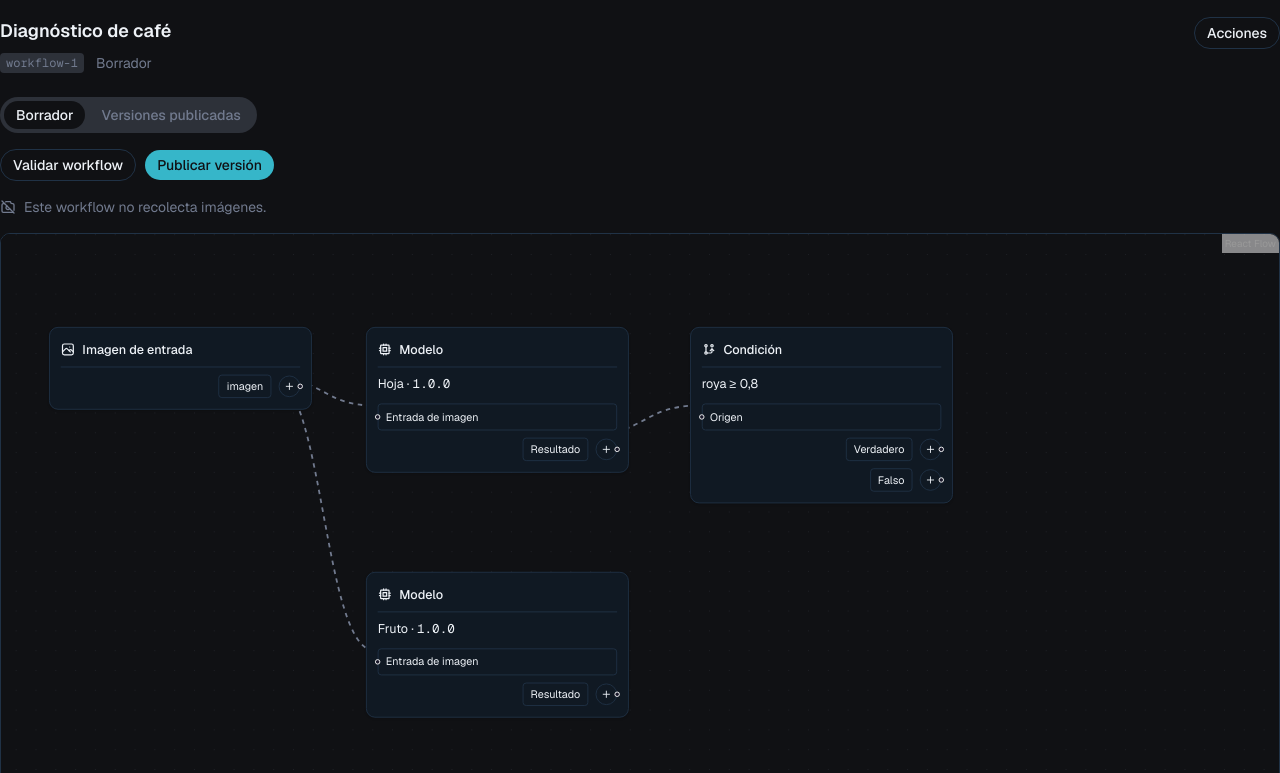
Test: US-132: deleting several nodes at once › opens the same dialog with Supr and closes it with Cancelar
Expected: the element with test id "workflow-node-model-b" is shown, [366,572,629,718]
Click the 1st button "Modelo" at (497, 349), box [378,340,617,358]
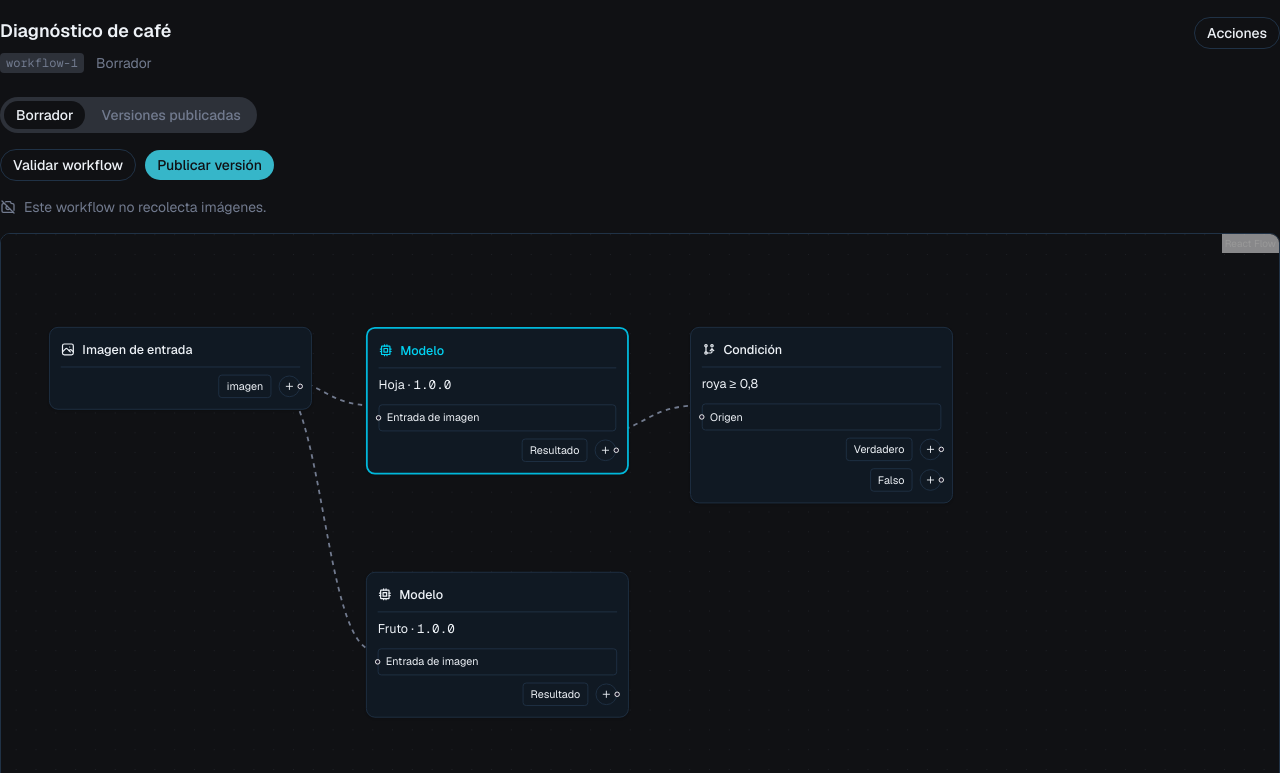
Click the 2nd button "Modelo" at (497, 594), box [378,585,617,603]
(page scrolled)
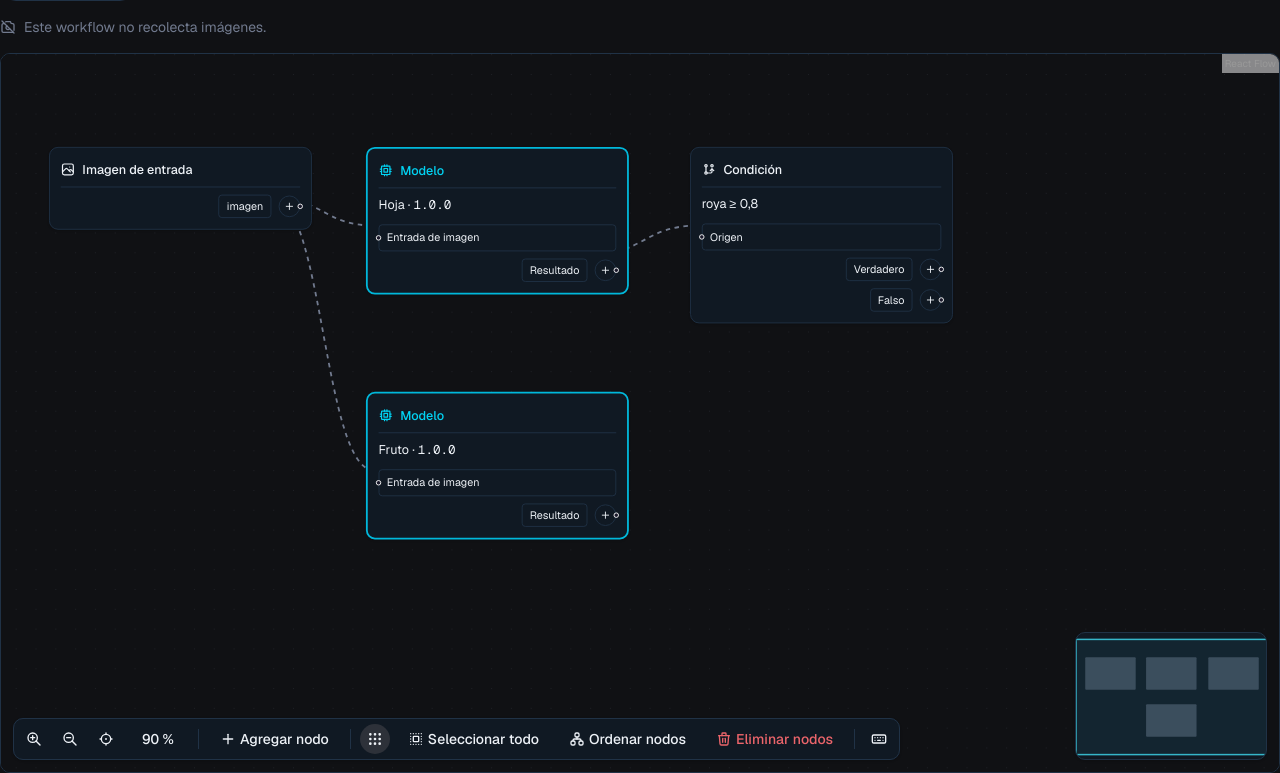
Press Delete in the element named "Lienzo del workflow"
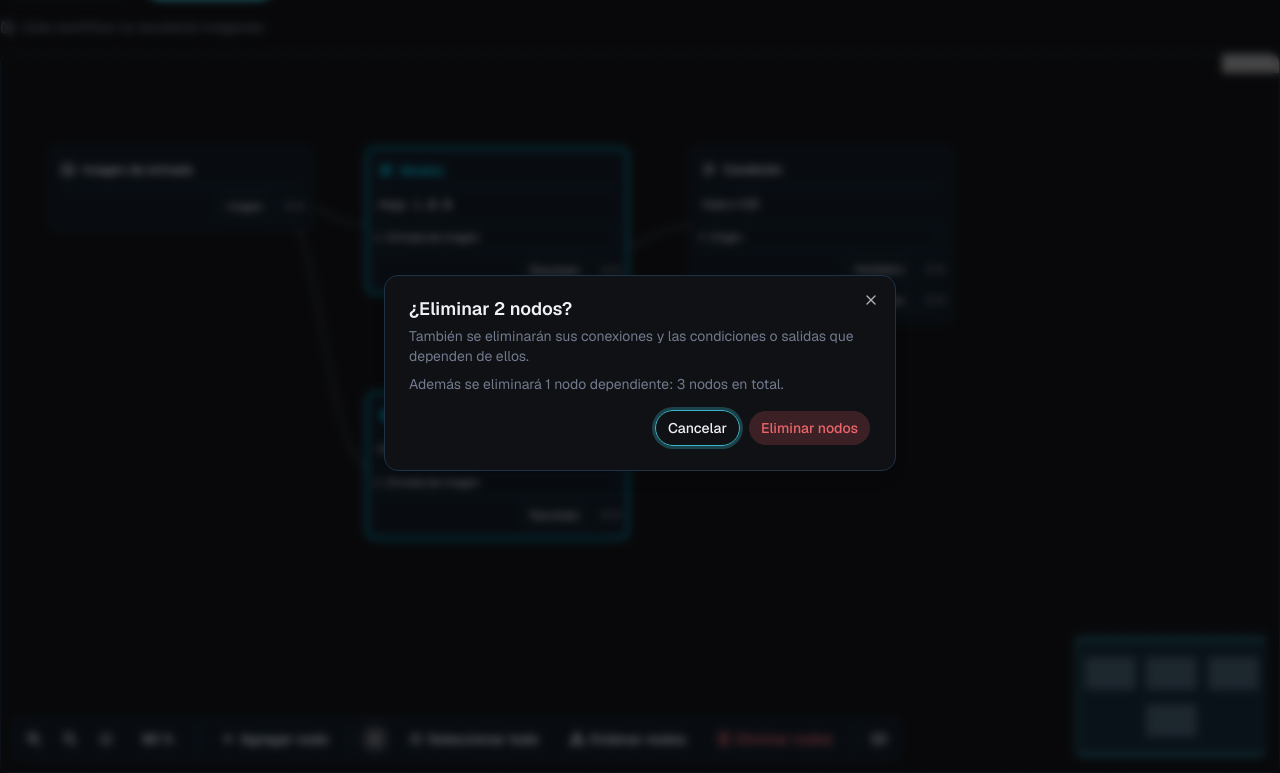
Now the heading "¿Eliminar 2 nodos?" is shown, box [409,297,572,320]
Click the button "Cancelar" at (697, 428), box [655,410,740,446]
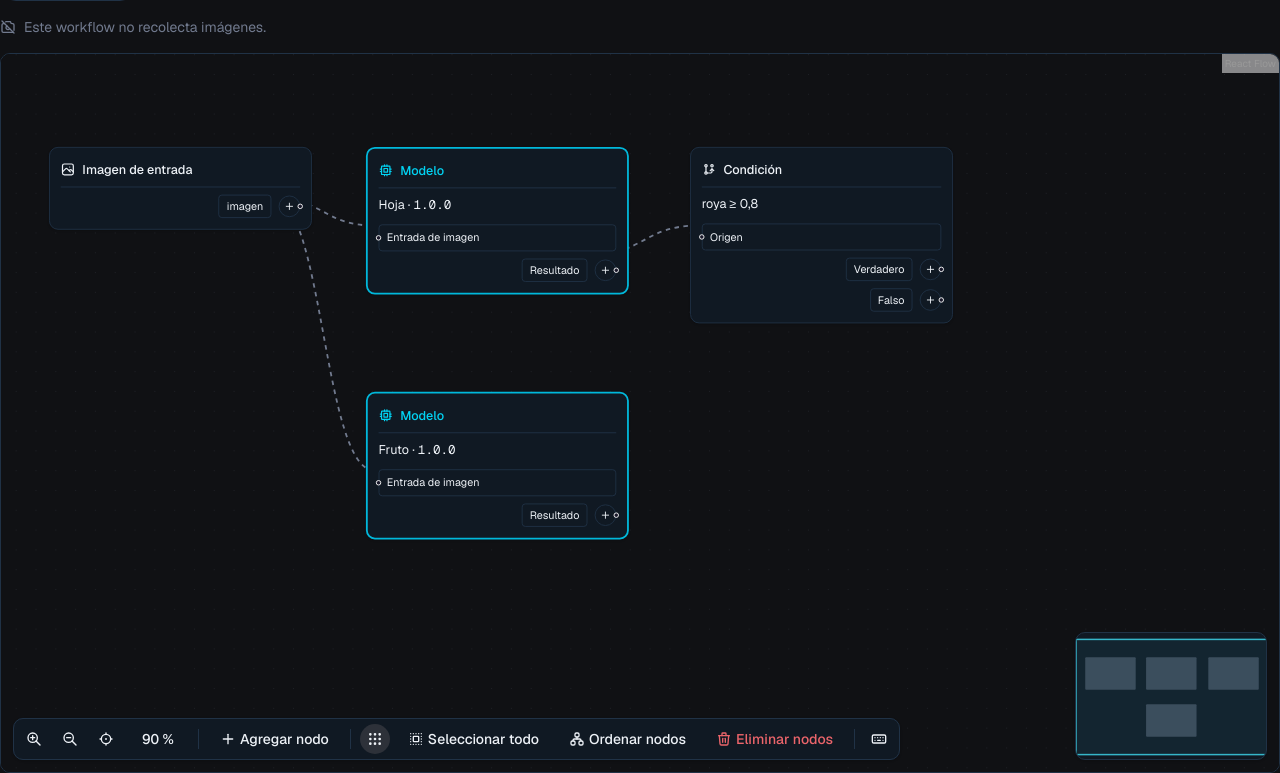
Now the dialog is gone
